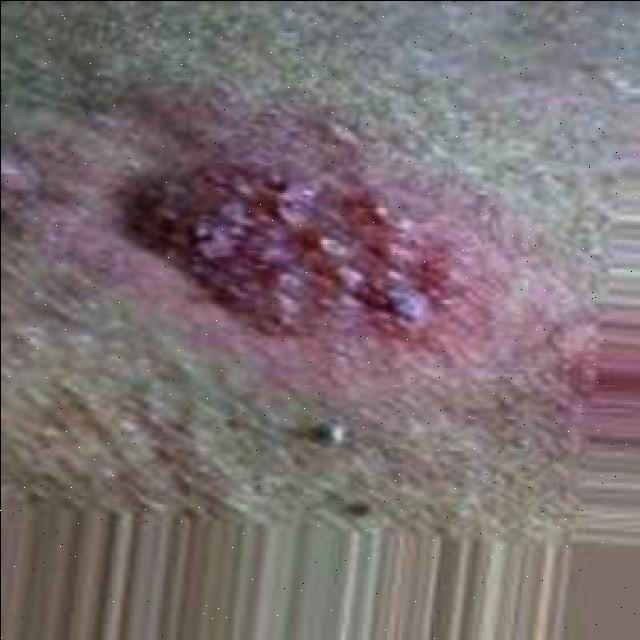Shingles: (121, 148, 474, 354)
